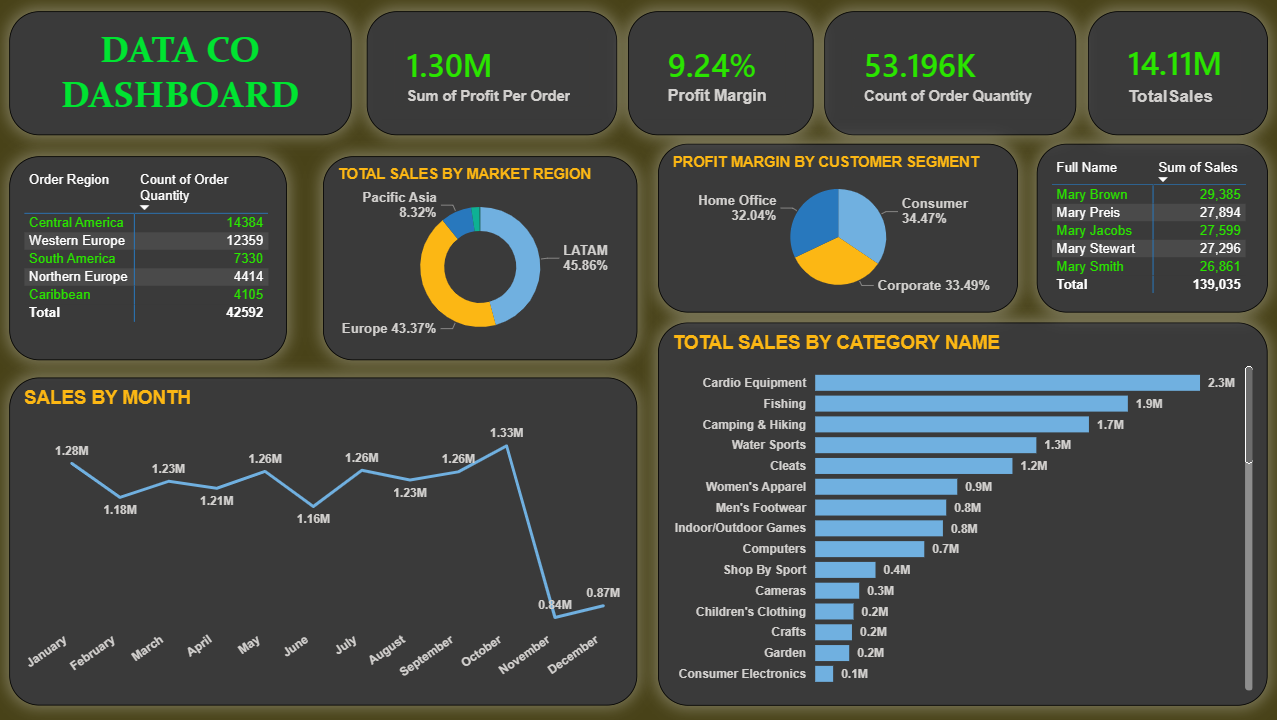

This screenshot's page, from the dashboard's own definition file:
{"tool":"powerbi","page":{"name":"Page 1","canvas":[1280,720],"ordinal":0},"visuals":[{"type":"clusteredBarChart","title":"TOTAL SALES BY CATEGORY NAME","fields":{"Category":["Sales Data.Category Name"],"Y":["Sum(Sales Data.Sales)"]},"box":[660.6,322.5,609.9,383.1],"z":0},{"type":"lineChart","title":"SALES BY MONTH ","fields":{"Category":["Sales Data.Order Date.Variation.Date Hierarchy.Month"],"Y":["Sum(Sales Data.Sales)"]},"box":[11.3,377.5,628.2,328.2],"z":1000},{"type":"pivotTable","fields":{"Values":["Sum(Sales Data.Sales)"],"Rows":["Sales Data.Full Name"]},"box":[1039,143.9,230.9,169.1],"z":2000},{"type":"donutChart","title":"TOTAL SALES BY MARKET REGION","fields":{"Category":["Sales Data.Market Region"],"Y":["Sum(Sales Data.Sales)"]},"box":[325.4,156.3,314.1,204.2],"z":3000},{"type":"pivotTable","title":"THTFHG","fields":{"Values":["CountNonNull(Sales Data.Order Quantity)"],"Rows":["Sales Data.Order Region"]},"box":[11.3,156.3,277.5,204.2],"z":4000},{"type":"cardVisual","fields":{"Data":["Sales Data.TotalSales"]},"box":[1090.1,11.3,180.3,123.9],"z":5000},{"type":"cardVisual","fields":{"Data":["Sum(Sales Data.Profit Per Order)"]},"box":[369,11.3,250.7,123.9],"z":6000},{"type":"cardVisual","fields":{"Data":["CountNonNull(Sales Data.Order Quantity)"]},"box":[826.8,11.3,252.1,123.9],"z":7000},{"type":"pieChart","title":"PROFIT MARGIN BY CUSTOMER SEGMENT","fields":{"Category":["Sales Data.Customer Segment"],"Y":["Sales Data.Profit Margin"]},"box":[660.2,143.9,360.2,169.1],"z":8000},{"type":"cardVisual","fields":{"Data":["Sales Data.Profit Margin"]},"box":[629.6,11.3,185.9,123.9],"z":9000},{"type":"textbox","box":[11.3,11.3,342.3,123.9],"z":10000}]}

Visuals, with their boxes in screenshot pixels (x1, y1, x2, y2), scaled from the page's 1280x720 canvas onto the 1277x720 screenshot:
"TOTAL SALES BY CATEGORY NAME" clusteredBarChart: {"left": 659, "top": 322, "right": 1268, "bottom": 706}
"SALES BY MONTH " lineChart: {"left": 11, "top": 378, "right": 638, "bottom": 706}
pivotTable - Sum(Sales Data.Sales) x Sales Data.Full Name: {"left": 1037, "top": 144, "right": 1267, "bottom": 313}
"TOTAL SALES BY MARKET REGION" donutChart: {"left": 325, "top": 156, "right": 638, "bottom": 360}
"THTFHG" pivotTable: {"left": 11, "top": 156, "right": 288, "bottom": 360}
cardVisual - Sales Data.TotalSales: {"left": 1088, "top": 11, "right": 1267, "bottom": 135}
cardVisual - Sum(Sales Data.Profit Per Order): {"left": 368, "top": 11, "right": 618, "bottom": 135}
cardVisual - CountNonNull(Sales Data.Order Quantity): {"left": 825, "top": 11, "right": 1076, "bottom": 135}
"PROFIT MARGIN BY CUSTOMER SEGMENT" pieChart: {"left": 659, "top": 144, "right": 1018, "bottom": 313}
cardVisual - Sales Data.Profit Margin: {"left": 628, "top": 11, "right": 814, "bottom": 135}
textbox: {"left": 11, "top": 11, "right": 353, "bottom": 135}
